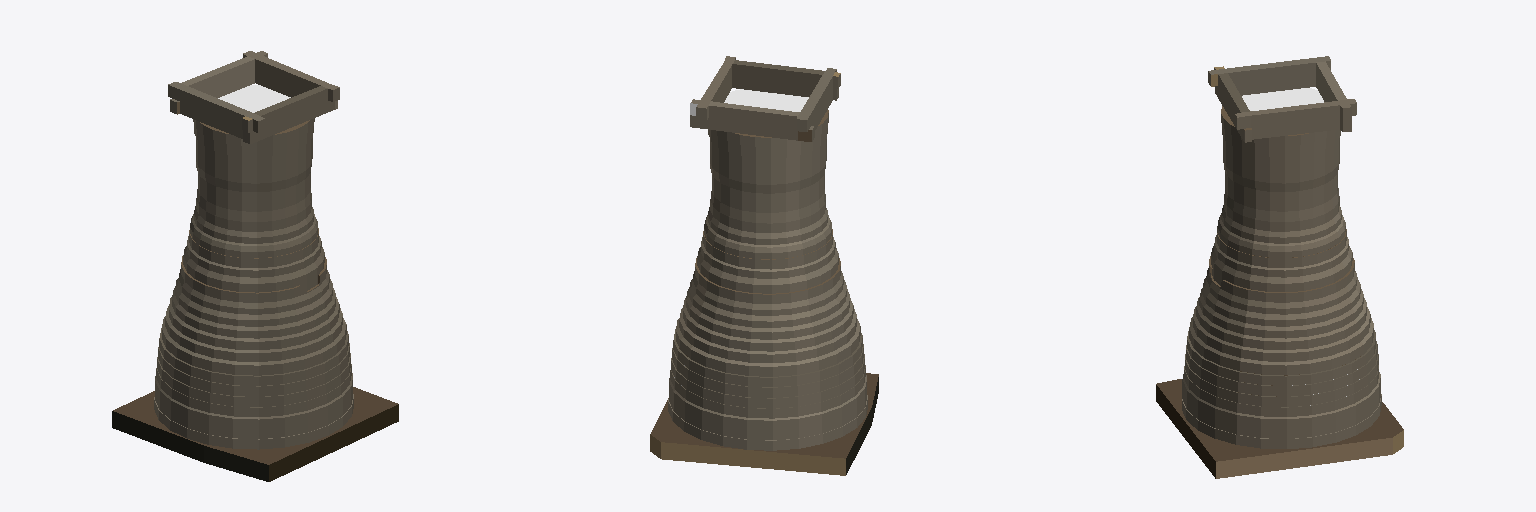
Rendered from 첨성대.obj.
The picture shows the model from 3 angles: view 1: azimuth 30°, elevation 25°; view 2: azimuth 150°, elevation 25°; view 3: azimuth 270°, elevation 25°; orthographic projection.
Parts seen in each view (by area): view 1: Mesh1 ______1_1 Model, Mesh2 ______1_1_1 Model, Mesh3 G_1_1 Model; view 2: Mesh1 ______1_1 Model, Mesh2 ______1_1_1 Model, Mesh3 G_1_1 Model; view 3: Mesh1 ______1_1 Model, Mesh2 ______1_1_1 Model, Mesh3 G_1_1 Model.
Part boxes in pixels (x1,y1,x2,y2): Mesh1 ______1_1 Model: (154, 118, 353, 449); Mesh2 ______1_1_1 Model: (168, 51, 339, 143); Mesh3 G_1_1 Model: (112, 387, 398, 481); Mesh1 ______1_1 Model: (668, 110, 867, 450); Mesh2 ______1_1_1 Model: (690, 56, 840, 141); Mesh3 G_1_1 Model: (650, 373, 878, 475); Mesh1 ______1_1 Model: (1182, 106, 1381, 448); Mesh2 ______1_1_1 Model: (1208, 56, 1356, 142); Mesh3 G_1_1 Model: (1156, 379, 1403, 478).
Size of the model in its own units: 6.72 by 9.78 by 6.51.